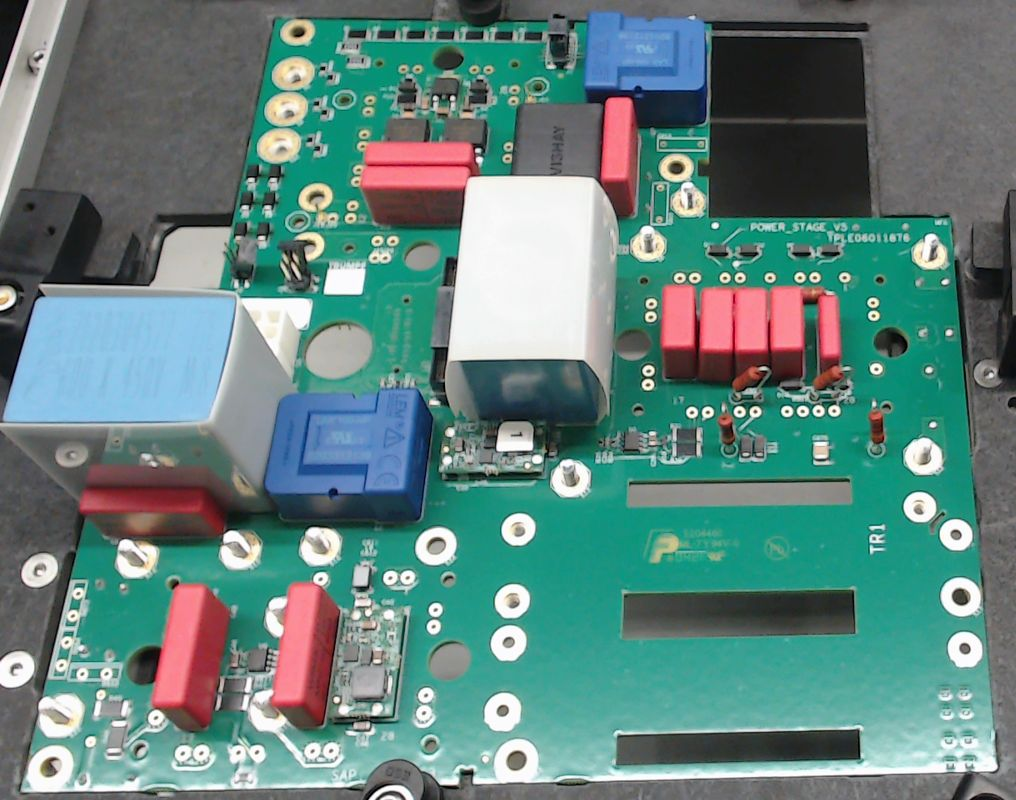comp1: (267, 385, 434, 523), (585, 11, 710, 126)
comp2: (151, 583, 218, 733), (272, 581, 332, 728), (76, 488, 227, 542), (359, 165, 471, 226), (601, 94, 641, 218), (661, 285, 697, 380), (699, 284, 734, 379), (734, 285, 770, 372), (363, 141, 476, 168), (772, 280, 801, 383), (815, 290, 845, 372)
comp3: (507, 99, 607, 176)
comp4: (1, 280, 297, 514), (445, 175, 618, 428)
